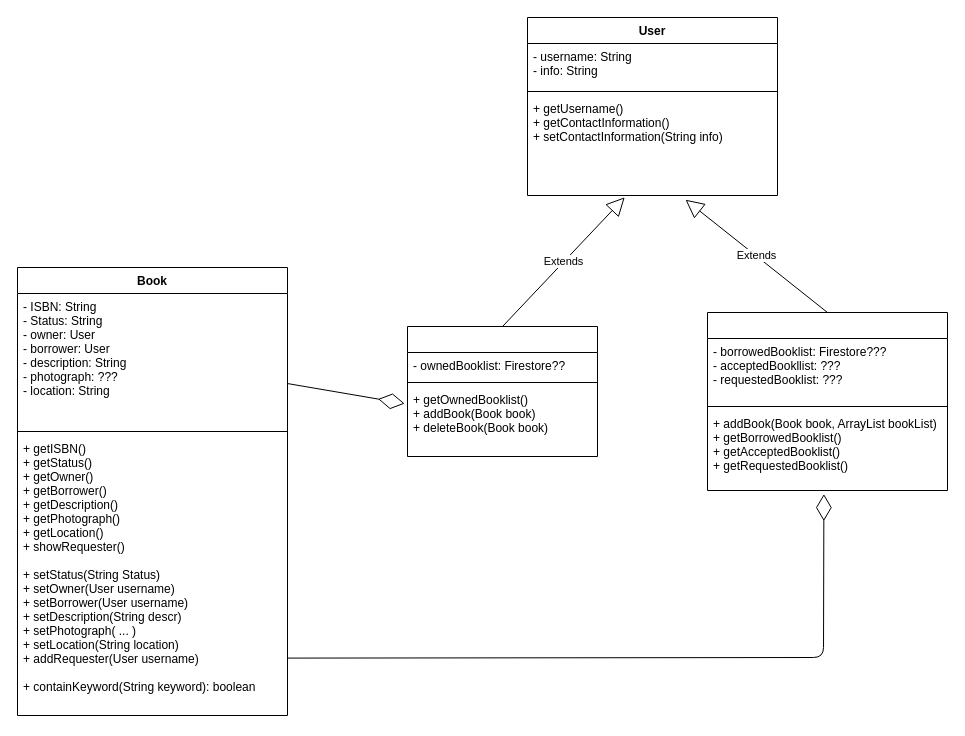
This 965x736 diagram has some shape labels left out. The shapes that lost their labels are listed below. From the top down, each one's box as (x1, y1, x2, y2) in pixels, then its label:
(406, 326, 598, 456): Owner
(706, 312, 948, 490): Borrower
